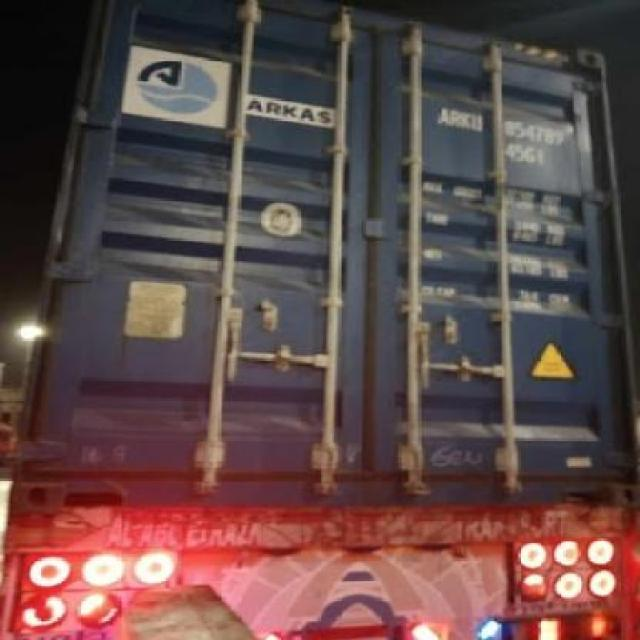ISO: (506, 147, 550, 168)
container_number: (432, 95, 590, 148)
